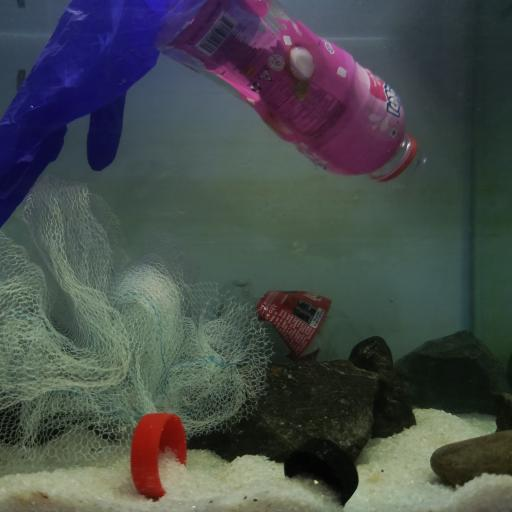bottle_cap: (286, 434, 360, 506), (131, 414, 190, 500)
glove: (2, 2, 200, 231)
net: (0, 171, 269, 460)
plastic_bottle: (160, 0, 430, 190), (217, 276, 366, 359)
